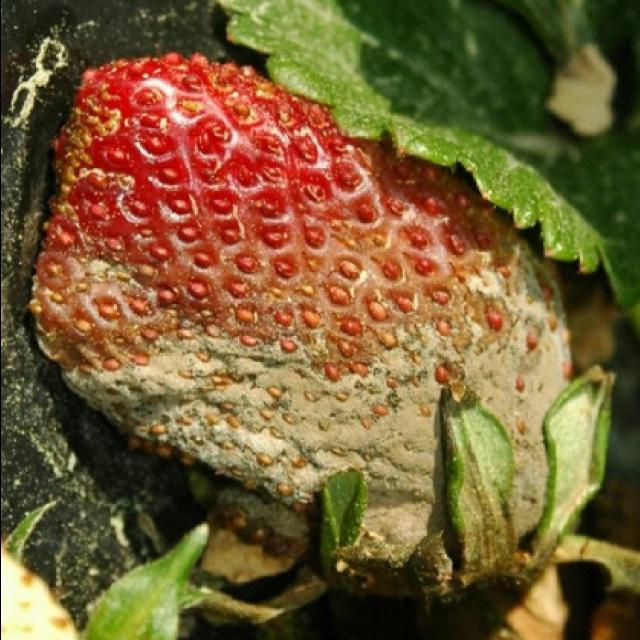Gray Mold: (27, 49, 594, 610)
